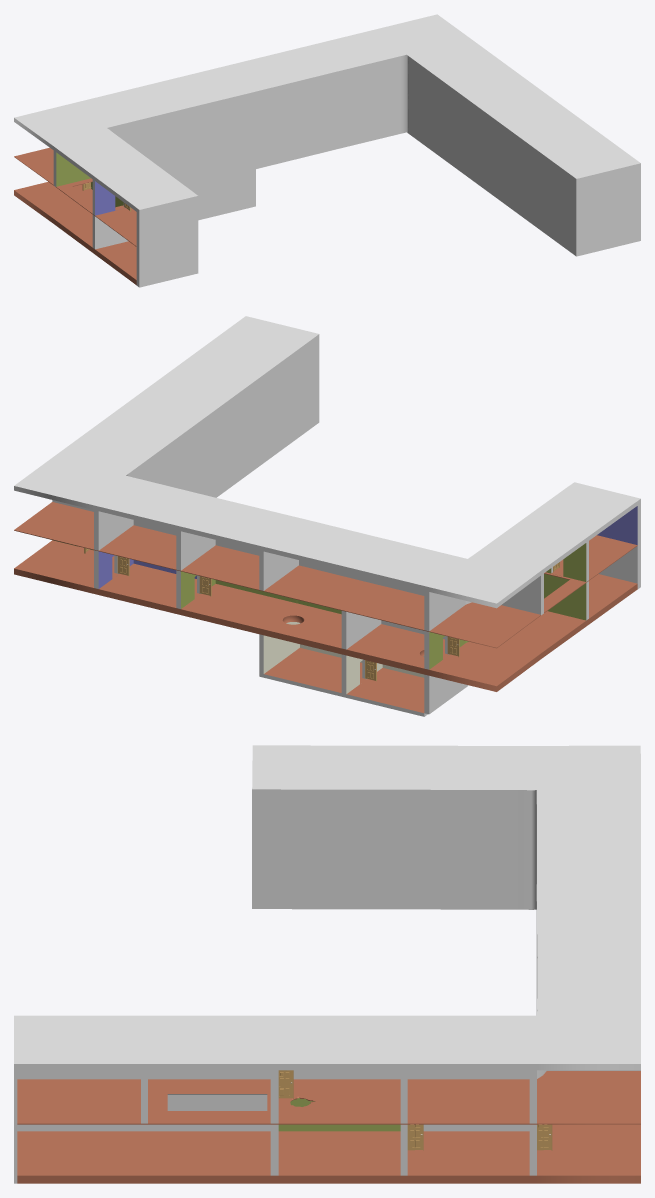
The model's file is map.fbx.
3 renders of one model, top to bottom at view 1: azimuth 30°, elevation 25°; view 2: azimuth 150°, elevation 25°; view 3: azimuth 270°, elevation 25°, orthographic. The views are drawn at different scales.
Parts seen in each view (by area): view 1: MapPath8; view 2: MapPath8; view 3: MapPath8.
Part boxes in pixels (box(x1,y1,x2,y2)): MapPath8: box(14, 14, 640, 287); MapPath8: box(14, 316, 640, 716); MapPath8: box(14, 745, 640, 1183).
Size of the model in its own units: 13366 by 3458 by 11109.
